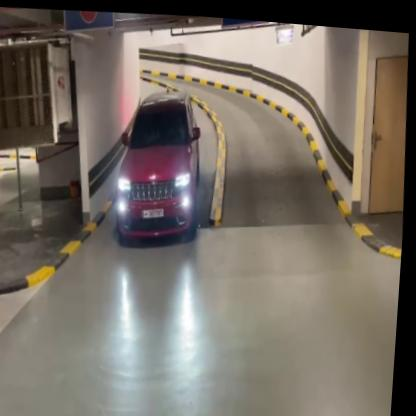np: (142, 204, 170, 221)
